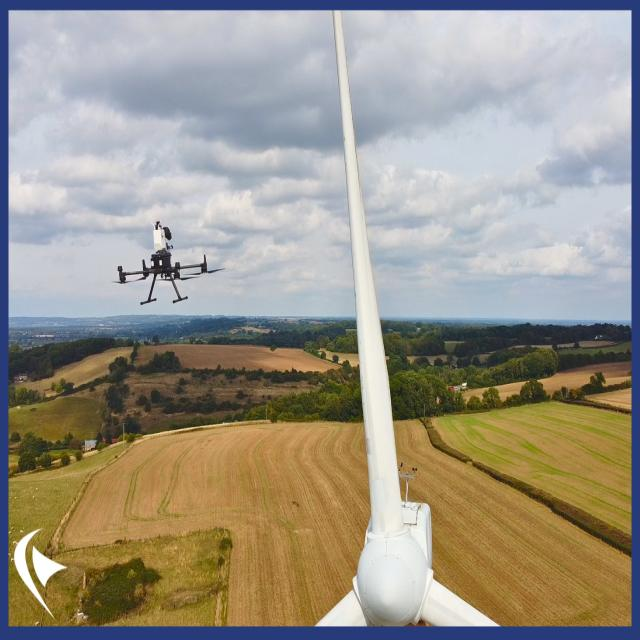drone: (107, 218, 227, 304)
